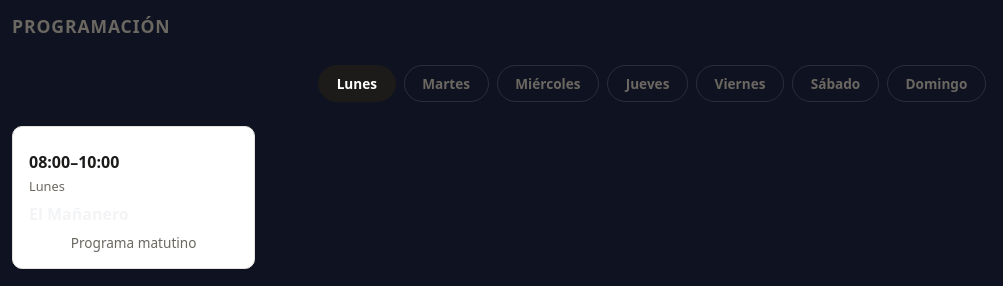
Test: ProgramsSection › variante tabs: avisa cuando el día no tiene programación
The image size is (1003, 286).
Click the tab "Domingo". click: point(936, 84)
box: x1=887 y1=65 x2=986 y2=102
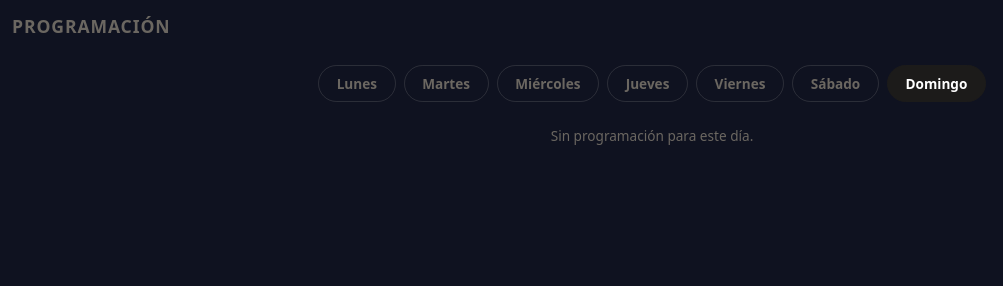
Now the text "Sin programación para este día." is shown, box x1=551 y1=126 x2=753 y2=145
